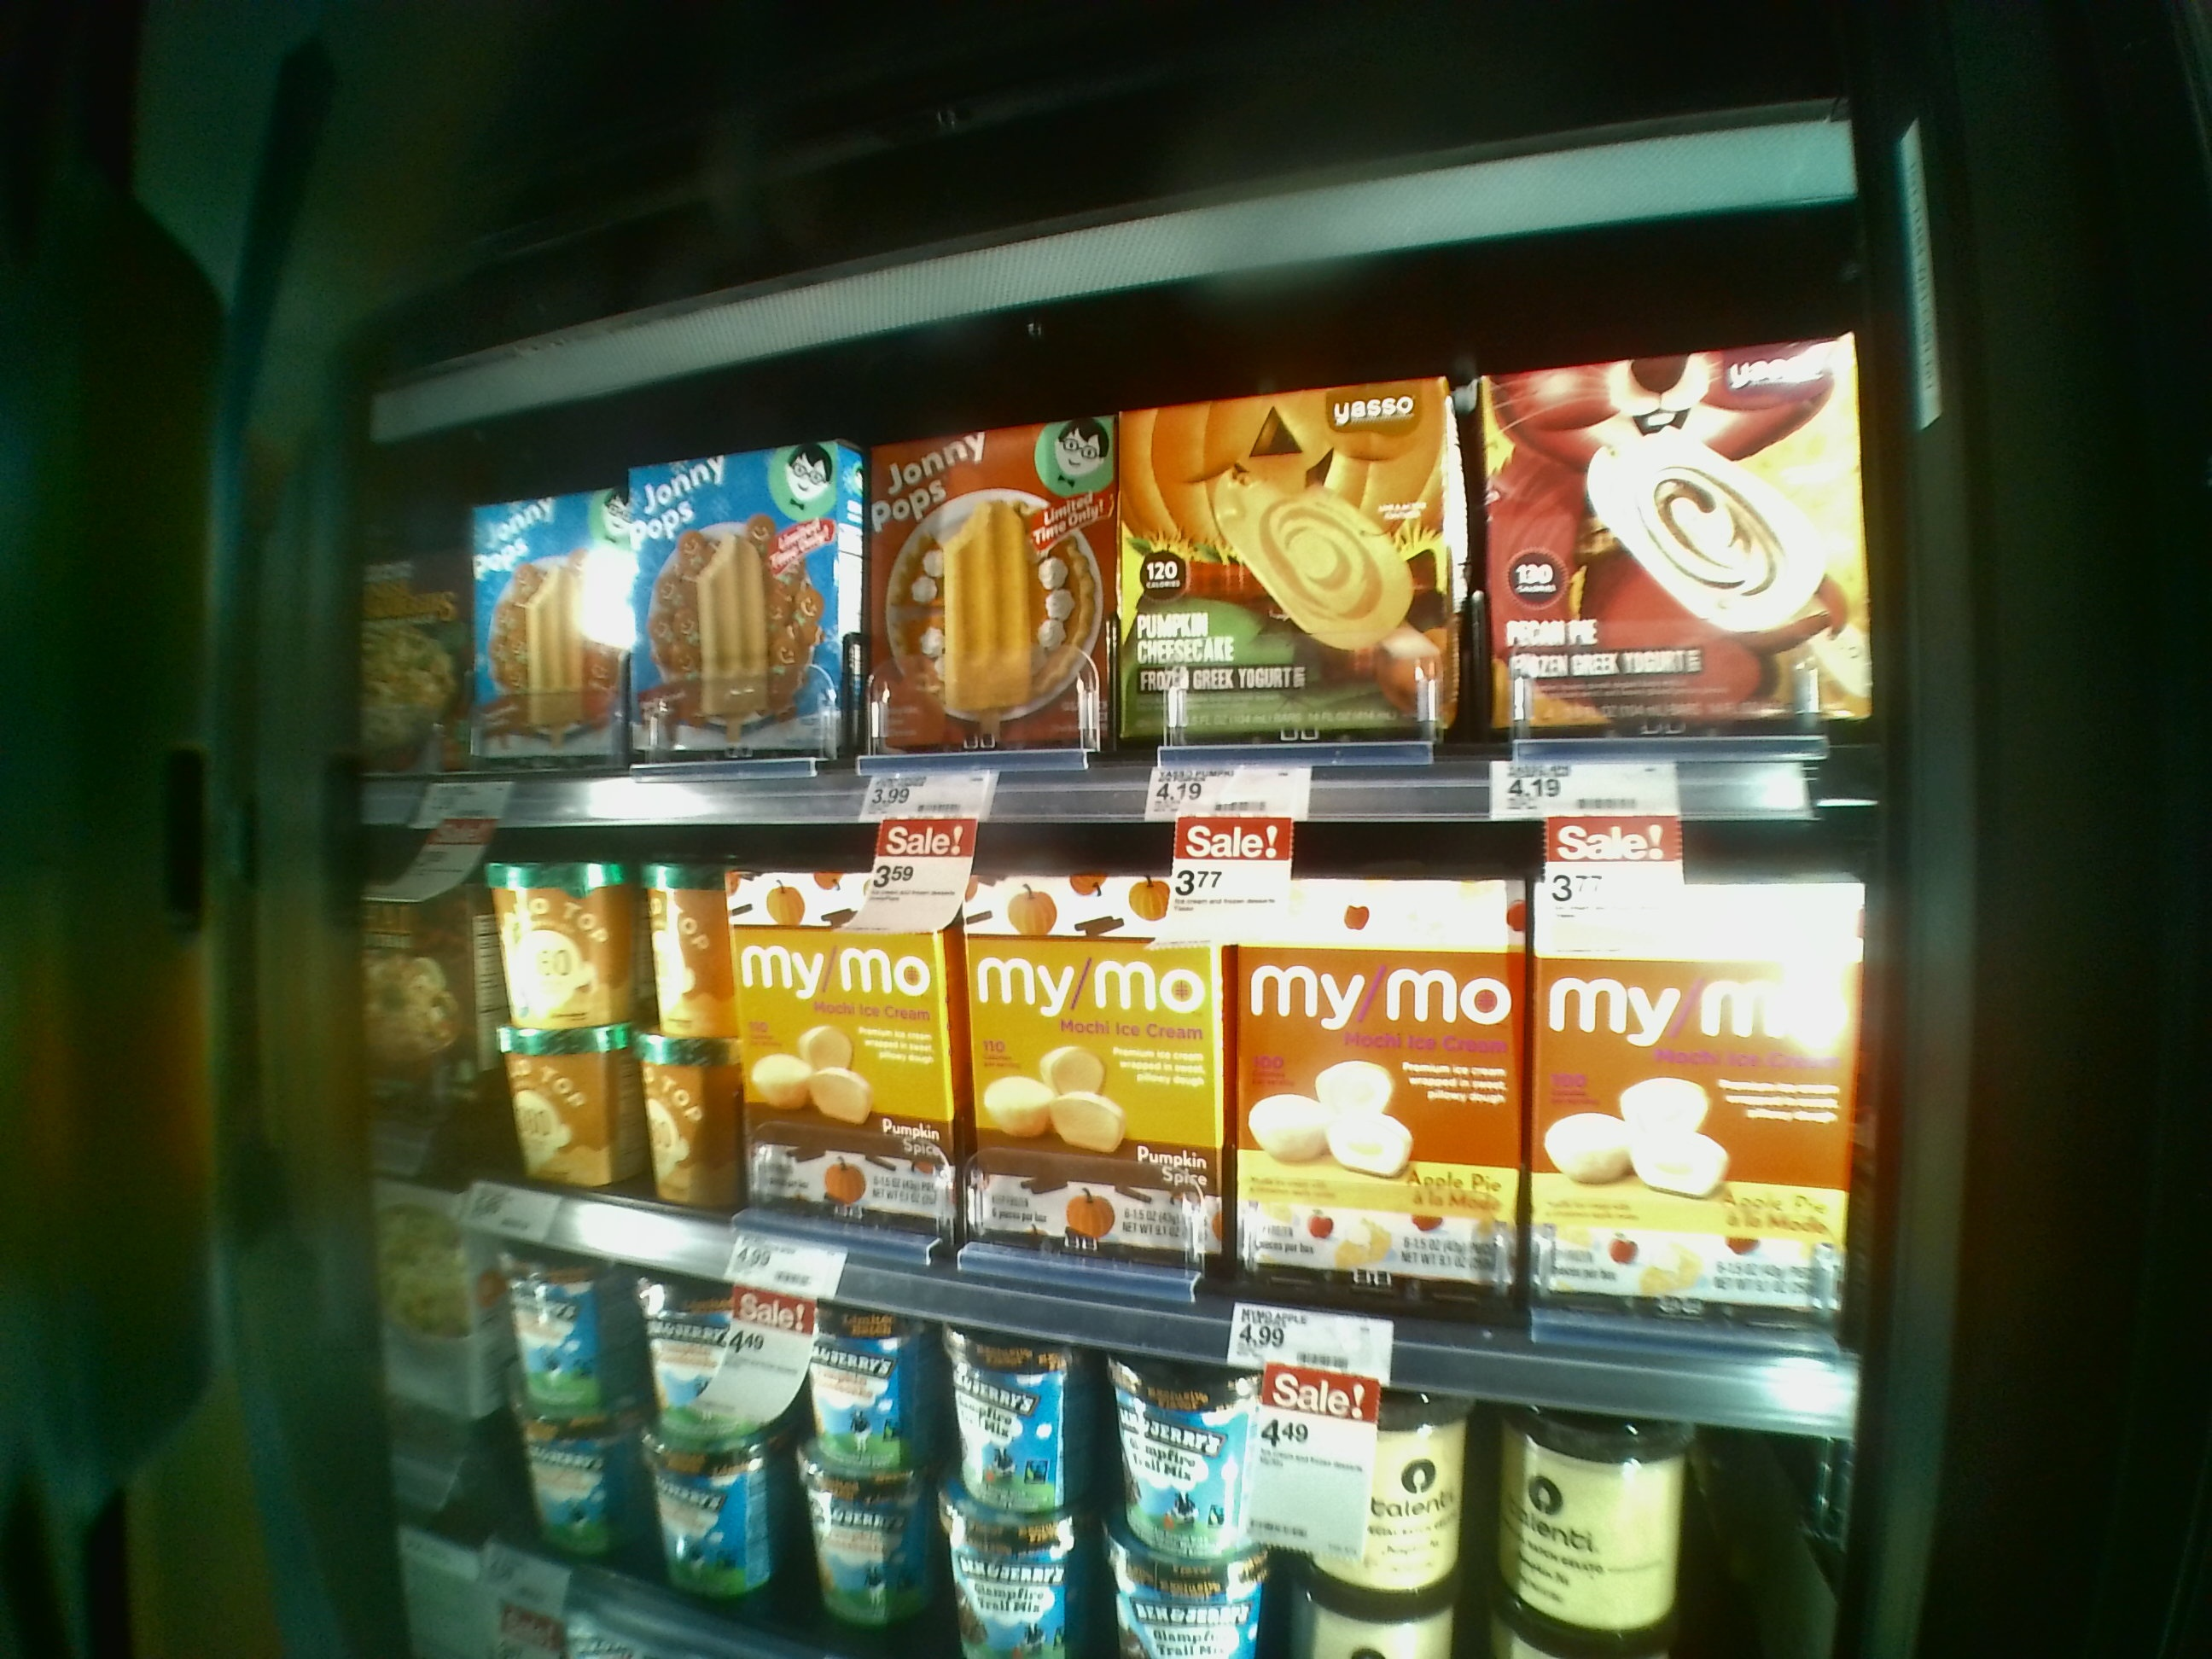shelf: (376, 763, 1848, 1420), (371, 347, 1864, 781)
